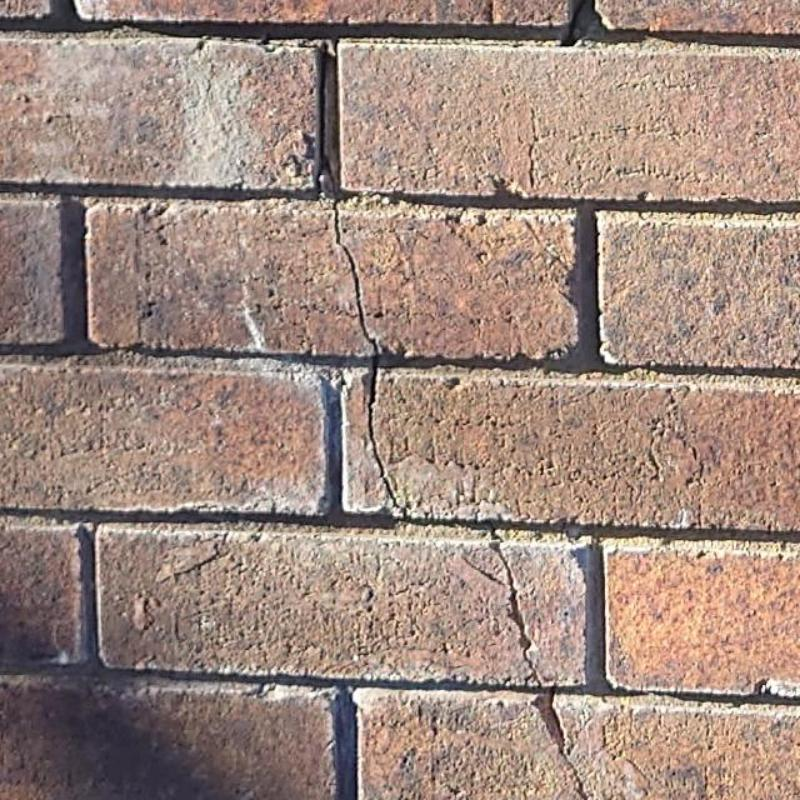crack: (332, 192, 413, 522), (490, 528, 545, 691), (315, 51, 336, 195), (559, 746, 589, 799), (549, 685, 566, 747)
